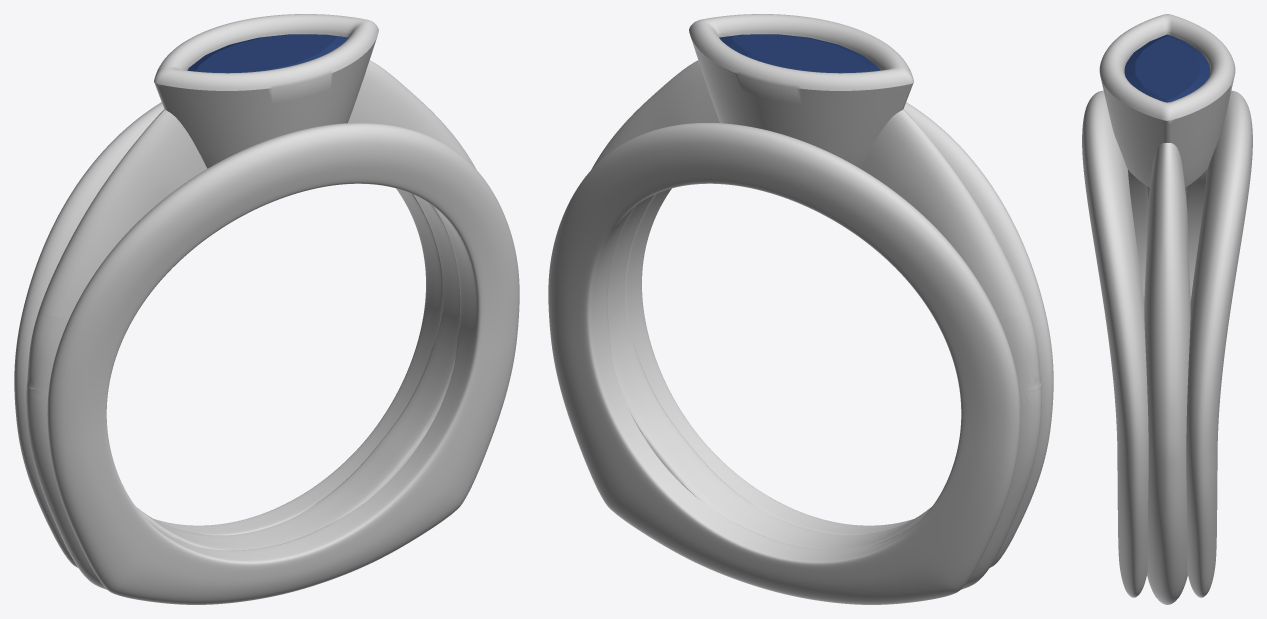
File: ToniTanzanitePT_blender.glb
3 renders of one model, left to right at view 1: azimuth 30°, elevation 25°; view 2: azimuth 150°, elevation 25°; view 3: azimuth 270°, elevation 25°, orthographic. The views are drawn at different scales.
Visible parts, largest first — view 1: Platinum for 3D model, Tanzanite for 3D model; view 2: Platinum for 3D model, Tanzanite for 3D model; view 3: Platinum for 3D model, Tanzanite for 3D model.
Boxes of the visible parts, bbox=[...] form: Platinum for 3D model: bbox=[14, 14, 519, 604]; Tanzanite for 3D model: bbox=[187, 34, 348, 73]; Platinum for 3D model: bbox=[548, 14, 1053, 604]; Tanzanite for 3D model: bbox=[719, 34, 880, 73]; Platinum for 3D model: bbox=[1082, 14, 1252, 604]; Tanzanite for 3D model: bbox=[1124, 34, 1210, 102].
Size of the model in its own units: 21.3 by 23.14 by 7.09.
